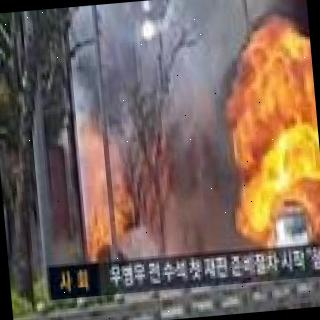fire: (226, 27, 320, 250), (79, 186, 124, 258)
